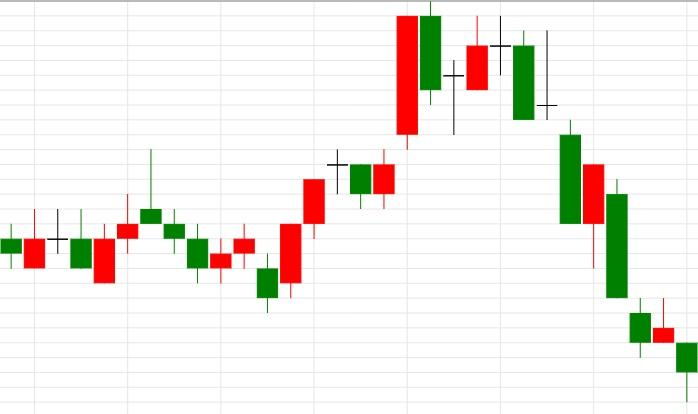evening_star_fall: (349, 0, 536, 209)
shooting_star_fall: (94, 149, 162, 284)
three_black_crows_fall: (94, 149, 209, 284)
